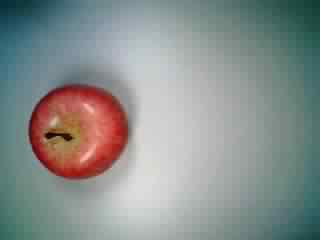apple: (25, 81, 131, 185)
